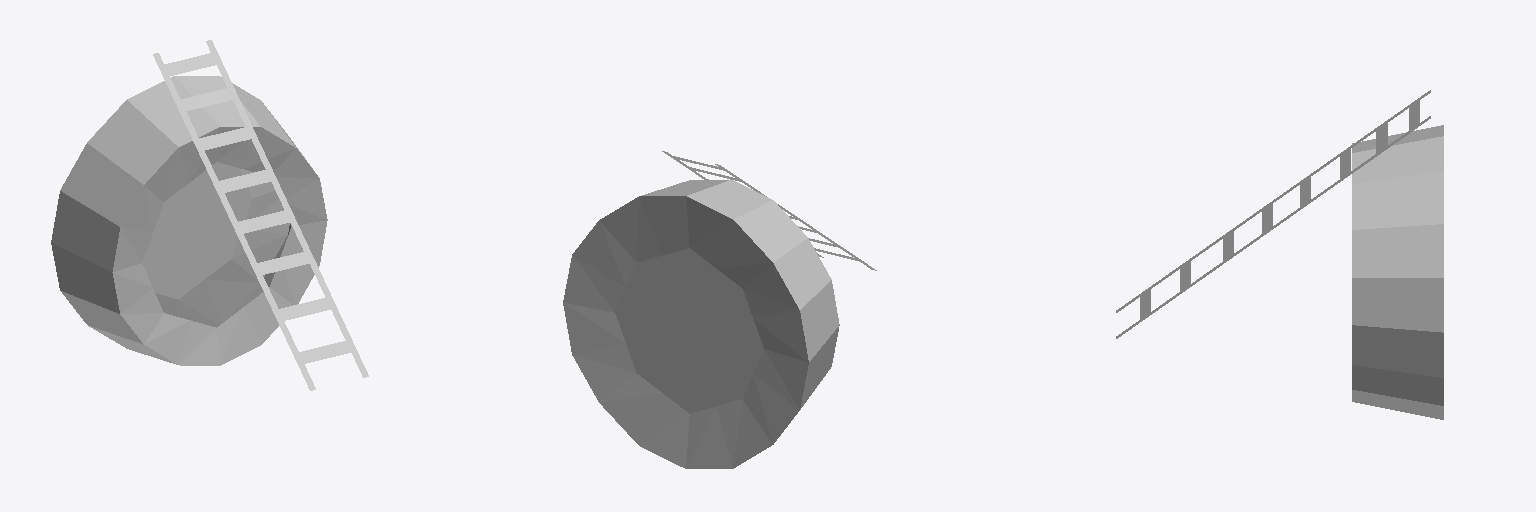
File: mine3d.obj
3 views of the same model, side by side, from view 1: azimuth 30°, elevation 25°; view 2: azimuth 150°, elevation 25°; view 3: azimuth 270°, elevation 25° (orthographic).
Parts seen in each view (by area): view 1: Cube, Plane.002; view 2: Cube, Plane.002; view 3: Cube, Plane.002.
Part boxes in pixels (x1,y1,x2,y2): Cube: (51, 76, 327, 365); Plane.002: (153, 40, 368, 390); Cube: (563, 179, 839, 468); Plane.002: (662, 151, 876, 270); Cube: (1352, 125, 1443, 419); Plane.002: (1116, 90, 1430, 338).
Bounding box in the file's own units: 1.46 × 1.74 × 1.68.